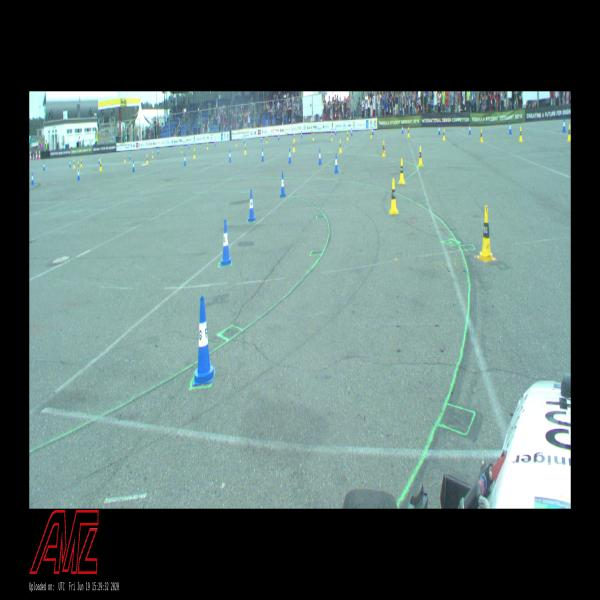blue_cone: (194, 296, 215, 385), (220, 220, 231, 265), (247, 190, 256, 221), (280, 172, 286, 197), (334, 153, 339, 173), (318, 149, 322, 165), (288, 149, 292, 163), (562, 118, 566, 132), (261, 147, 264, 162), (509, 122, 512, 134), (229, 150, 232, 162), (77, 168, 80, 180), (31, 173, 34, 185), (132, 161, 135, 172), (401, 125, 404, 134), (184, 154, 186, 166), (469, 124, 471, 135), (438, 125, 440, 136), (43, 161, 45, 171), (129, 152, 131, 160), (70, 160, 72, 168), (350, 128, 352, 136), (335, 128, 337, 136), (372, 127, 373, 136), (99, 157, 100, 164), (278, 133, 279, 140)
large_orange_cone: (38, 150, 40, 160), (32, 153, 34, 161), (36, 150, 37, 160), (30, 150, 31, 160)
yellow_cone: (477, 205, 495, 262), (389, 179, 398, 214), (398, 158, 405, 184), (418, 146, 423, 166), (567, 125, 571, 142), (382, 141, 386, 156), (519, 127, 523, 142), (480, 129, 483, 143), (339, 139, 342, 153), (442, 129, 445, 141), (407, 126, 410, 138), (146, 154, 149, 165), (244, 144, 247, 155), (77, 161, 80, 172), (193, 149, 196, 159), (346, 132, 349, 141), (73, 159, 76, 168), (100, 158, 102, 171), (293, 140, 295, 152), (80, 158, 82, 168), (370, 130, 372, 139), (312, 132, 314, 141), (331, 132, 333, 141), (124, 155, 126, 163), (152, 150, 154, 158), (266, 136, 268, 144), (181, 146, 183, 153), (294, 133, 295, 142)
